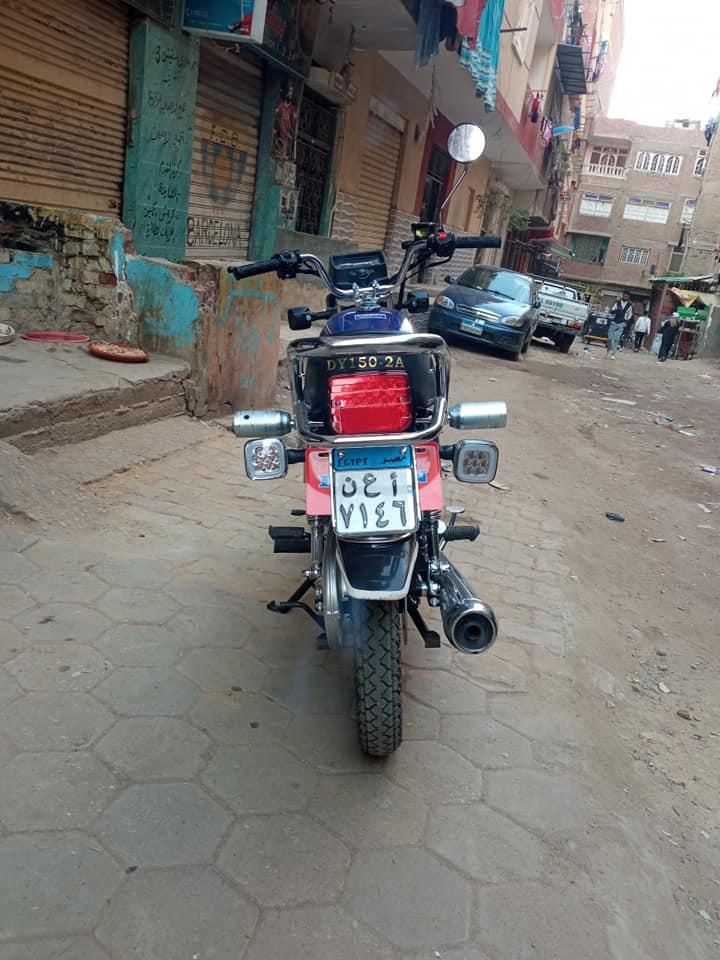License Plate: (331, 437, 420, 535)
